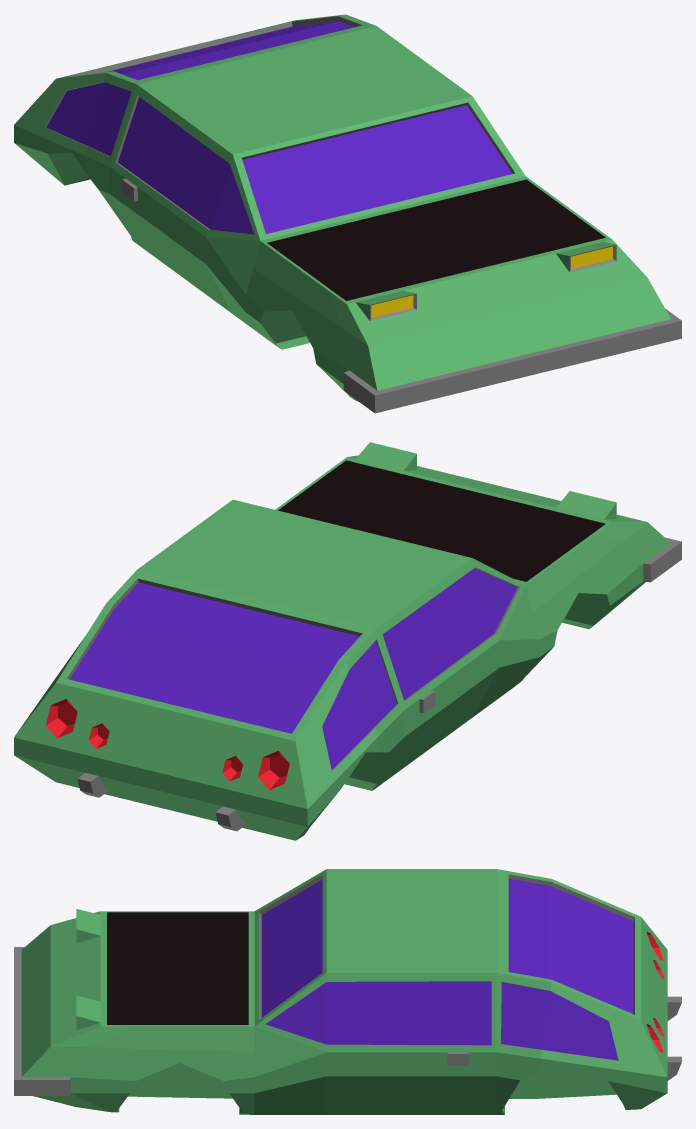
The model's file is JPNCarG.fbx.
3 views of the same model, one above another, from view 1: azimuth 30°, elevation 25°; view 2: azimuth 150°, elevation 25°; view 3: azimuth 270°, elevation 25° (orthographic). The views are drawn at different scales.
Parts seen in each view (by area): view 1: Cube.003; view 2: Cube.003; view 3: Cube.003.
Part boxes in pixels (left/top/right/bottom): Cube.003: left=14, top=14, right=681, bottom=413; Cube.003: left=14, top=442, right=681, bottom=840; Cube.003: left=14, top=869, right=681, bottom=1114.
Bounding box in the file's own units: 200 × 99.33 × 424.
